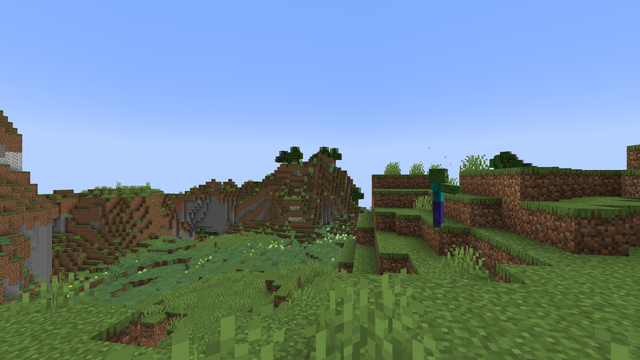zombies: (427, 170, 450, 228)
